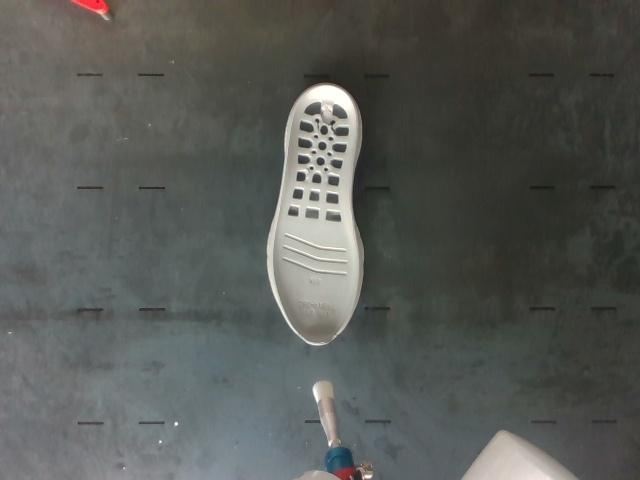shoes: (273, 85, 358, 342)
